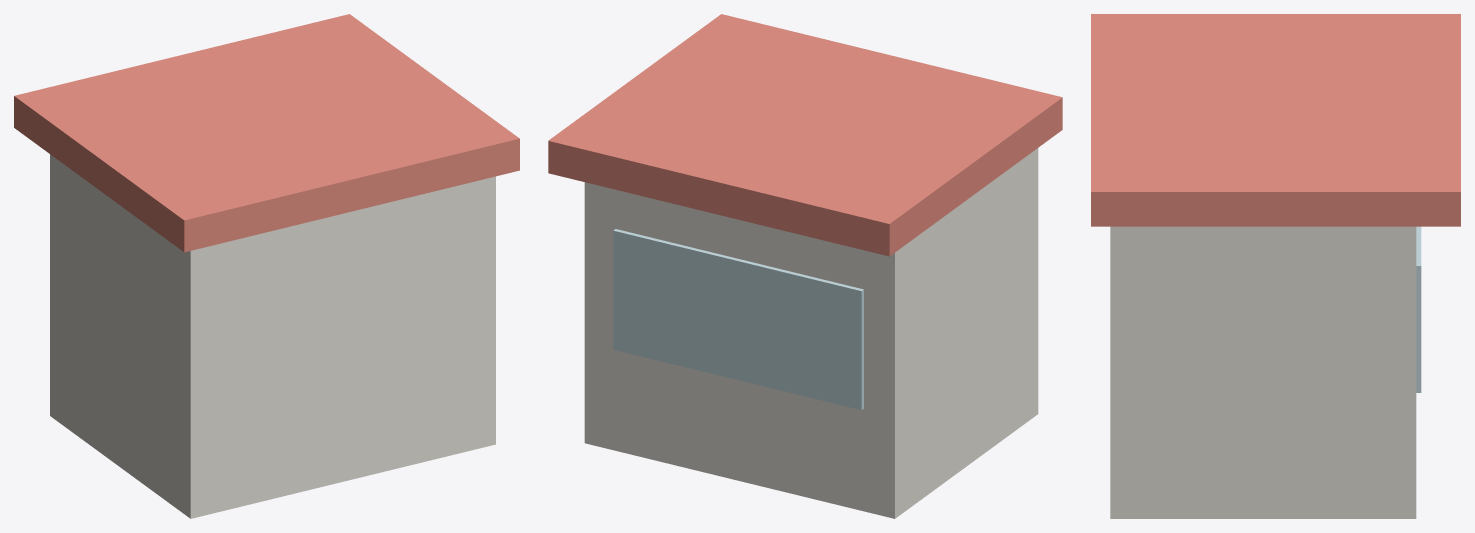
The model's file is kiosk.glb.
3 views of the same model, side by side, from view 1: azimuth 30°, elevation 25°; view 2: azimuth 150°, elevation 25°; view 3: azimuth 270°, elevation 25° (orthographic). The views are drawn at different scales.
Parts seen in each view (by area): view 1: Kiosk; view 2: Kiosk; view 3: Kiosk.
Boxes of the visible parts, x1,y1,x2,y2 form: Kiosk: [14, 14, 519, 518]; Kiosk: [548, 14, 1062, 518]; Kiosk: [1091, 14, 1460, 518].
Size of the model in its own units: 3.3 by 2.9 by 2.9.
